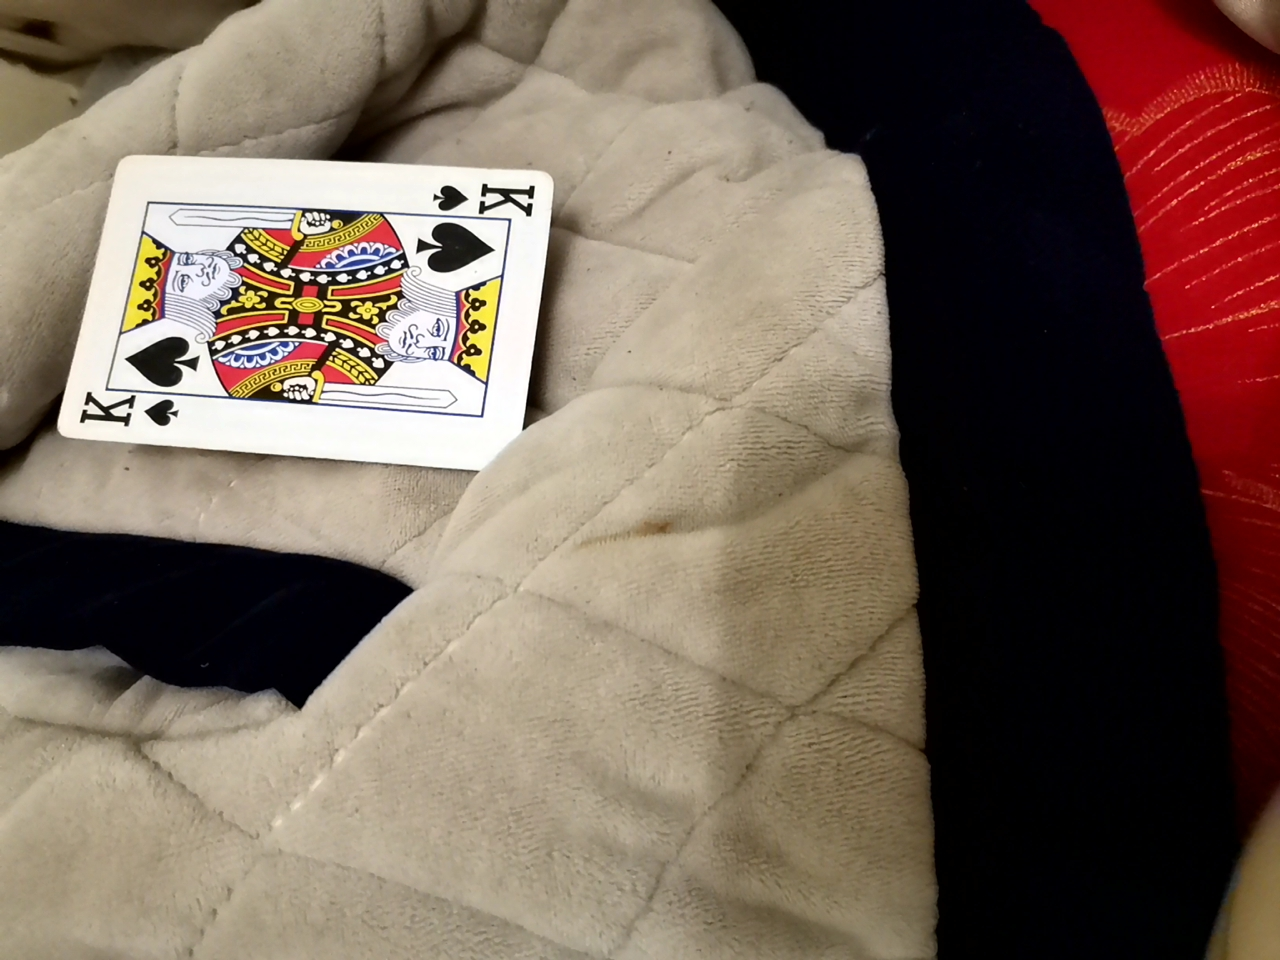ht k: (67, 178, 535, 476)
